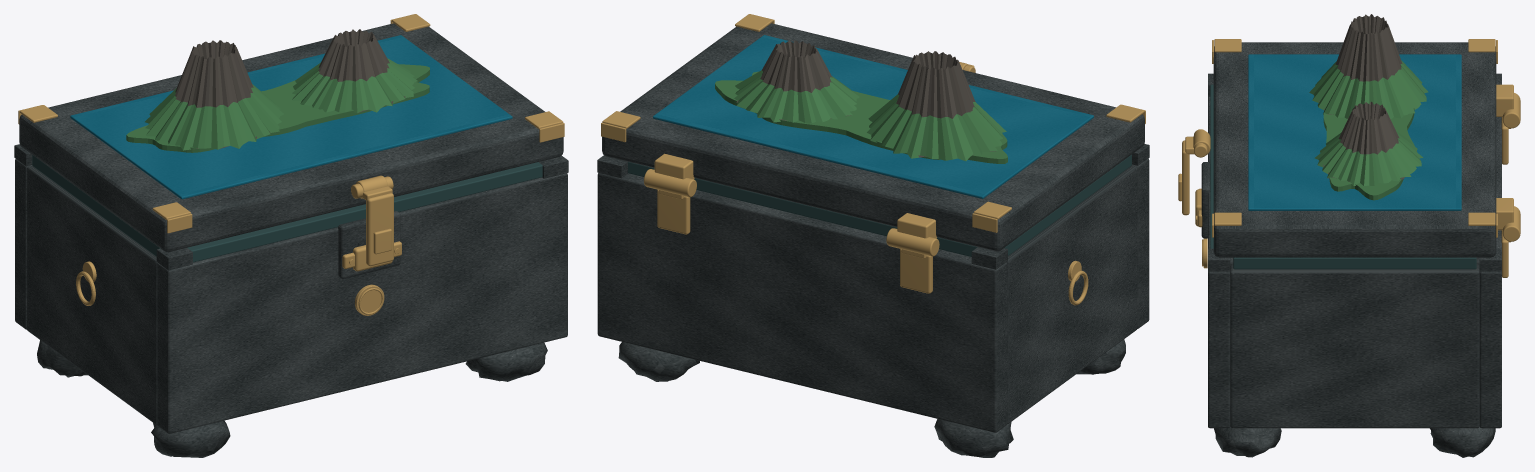
The model's file is nicaragua.glb.
3 views of the same model, side by side, from view 1: azimuth 30°, elevation 25°; view 2: azimuth 150°, elevation 25°; view 3: azimuth 270°, elevation 25° (orthographic). The views are drawn at different scales.
Parts seen in each view (by area): view 1: Stone / long wall, Lid / polished slab, Stone / end wall, Lake / inset, Volcano / Concepcion crater, Volcano / Maderas crater, Mineral seam / long, Island / connected isthmus, Granite foot, Granite foot.002, Stone / long wall.001, Cedar / clasp seat (+5 smaller); view 2: Stone / long wall.001, Lid / polished slab, Stone / end wall, Lake / inset, Volcano / Concepcion crater, Volcano / Maderas crater, Island / connected isthmus, Mineral seam / long.001, Stone / long wall, Granite foot.001, Granite foot.003, Mineral seam / side (+8 smaller); view 3: Stone / end wall.001, Lid / polished slab, Lake / inset, Volcano / Concepcion crater, Volcano / Maderas crater, Stone / long wall.001, Stone / long wall, Mineral seam / side.001, Island / connected isthmus, Granite foot.002, Granite foot.003, Mineral seam / long (+12 smaller).
Part boxes in pixels (<box>): Stone / long wall: <box>157,173,567,433</box>; Lid / polished slab: <box>19,23,563,252</box>; Stone / end wall: <box>27,166,157,425</box>; Lake / inset: <box>70,35,512,199</box>; Volcano / Concepcion crater: <box>145,40,283,150</box>; Volcano / Maderas crater: <box>292,29,417,113</box>; Mineral seam / long: <box>187,162,542,262</box>; Island / connected isthmus: <box>126,64,429,152</box>; Granite foot: <box>151,420,230,457</box>; Granite foot.002: <box>465,342,547,381</box>; Stone / long wall.001: <box>15,159,32,329</box>; Cedar / clasp seat: <box>338,211,400,278</box>; Stone / long wall.001: <box>597,173,1007,432</box>; Lid / polished slab: <box>602,23,1144,251</box>; Stone / end wall: <box>1006,165,1137,424</box>; Lake / inset: <box>653,35,1093,198</box>; Volcano / Concepcion crater: <box>867,51,1006,161</box>; Volcano / Maderas crater: <box>734,40,859,123</box>; Island / connected isthmus: <box>715,71,1007,163</box>; Mineral seam / long.001: <box>628,162,977,256</box>; Stone / long wall: <box>1132,158,1149,328</box>; Granite foot.001: <box>934,419,1013,457</box>; Granite foot.003: <box>618,342,699,381</box>; Mineral seam / side: <box>1004,154,1131,255</box>; Stone / end wall.001: <box>1230,264,1479,428</box>; Lid / polished slab: <box>1213,42,1496,257</box>; Lake / inset: <box>1248,54,1461,210</box>; Volcano / Concepcion crater: <box>1309,14,1428,119</box>; Volcano / Maderas crater: <box>1314,101,1422,185</box>; Stone / long wall.001: <box>1479,117,1501,428</box>; Stone / long wall: <box>1208,96,1230,428</box>; Mineral seam / side.001: <box>1233,257,1476,269</box>; Island / connected isthmus: <box>1323,108,1417,200</box>; Granite foot.002: <box>1214,427,1281,457</box>; Granite foot.003: <box>1430,426,1495,457</box>; Mineral seam / long: <box>1210,84,1213,248</box>.
Bounding box in the file's own units: 3.79 × 3.01 × 2.88.
6 materials, 2 textured.
